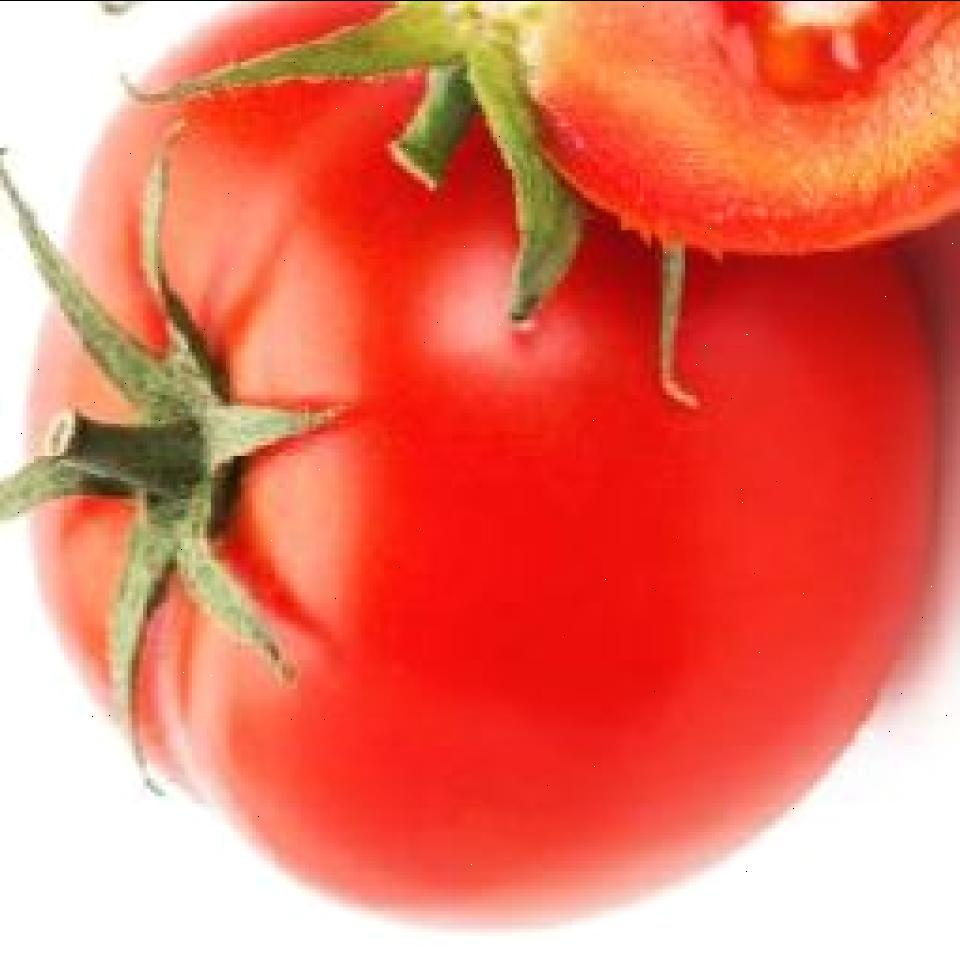Healthy: (28, 3, 926, 912)
